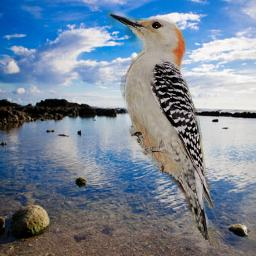Woodpecker: (106, 2, 223, 255)
